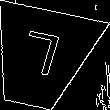L_S: (16, 30, 66, 87)
